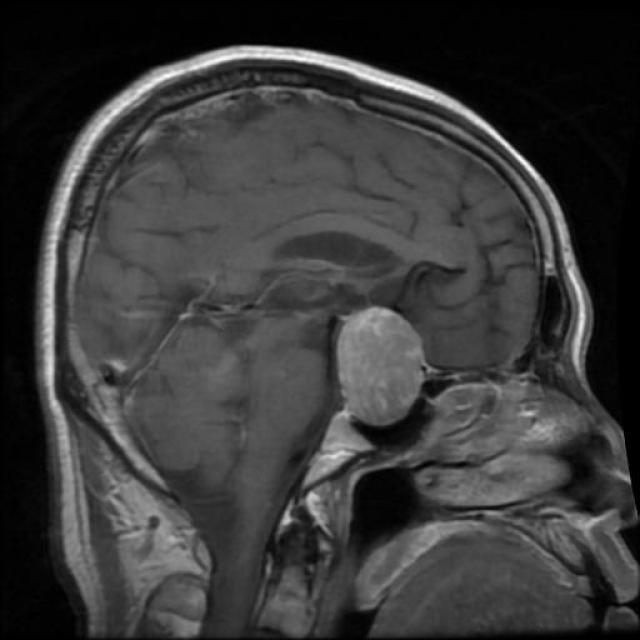Brain-Tumor: (327, 294, 440, 442)
